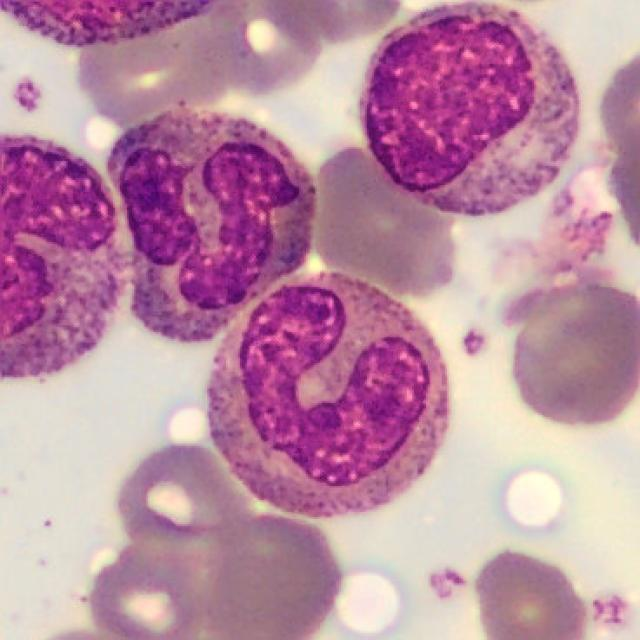Bastonete: (207, 273, 450, 522)
